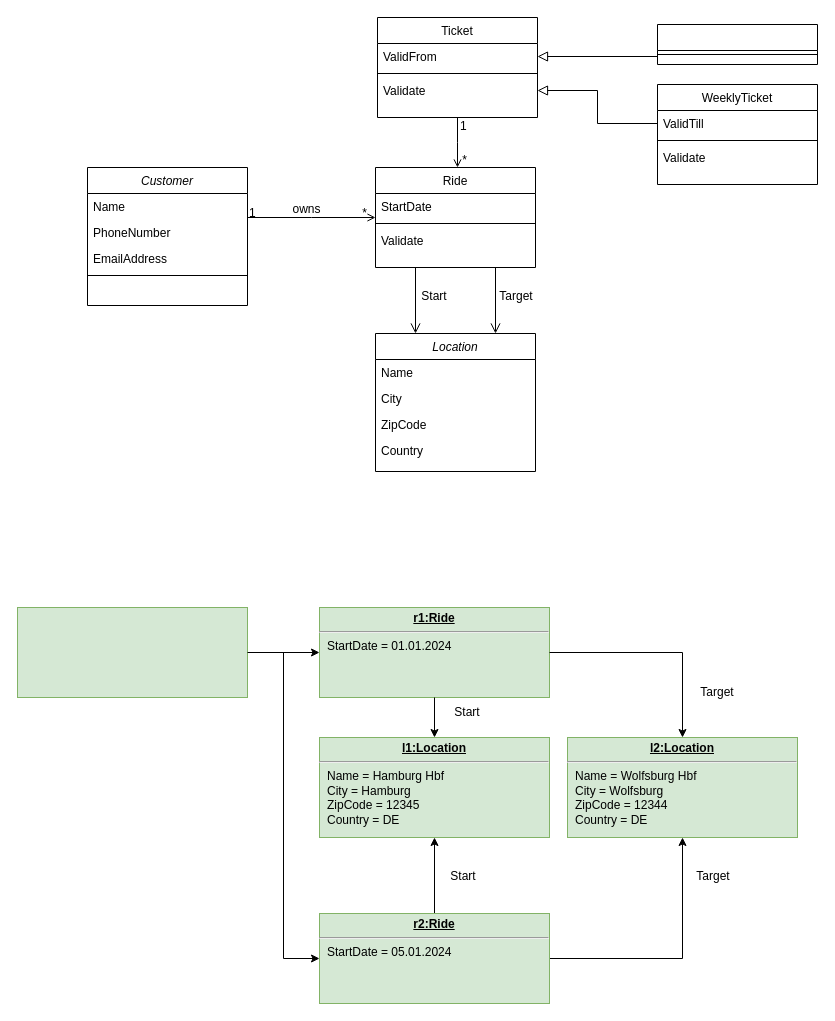
This 835x1021 diagram has some shape labels left out. Each missing label, with the centre of its shape:
c1:Customer Name = Hans Meiser PhoneNumber = 12345 EmailAddress = hans@meiser.de: pixel 132 652
SingleTicket: pixel 737 44
